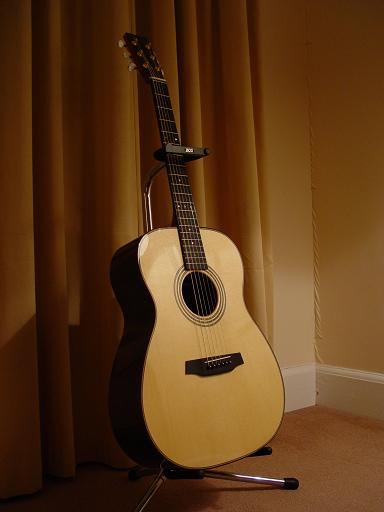guitar: (110, 29, 287, 470)
